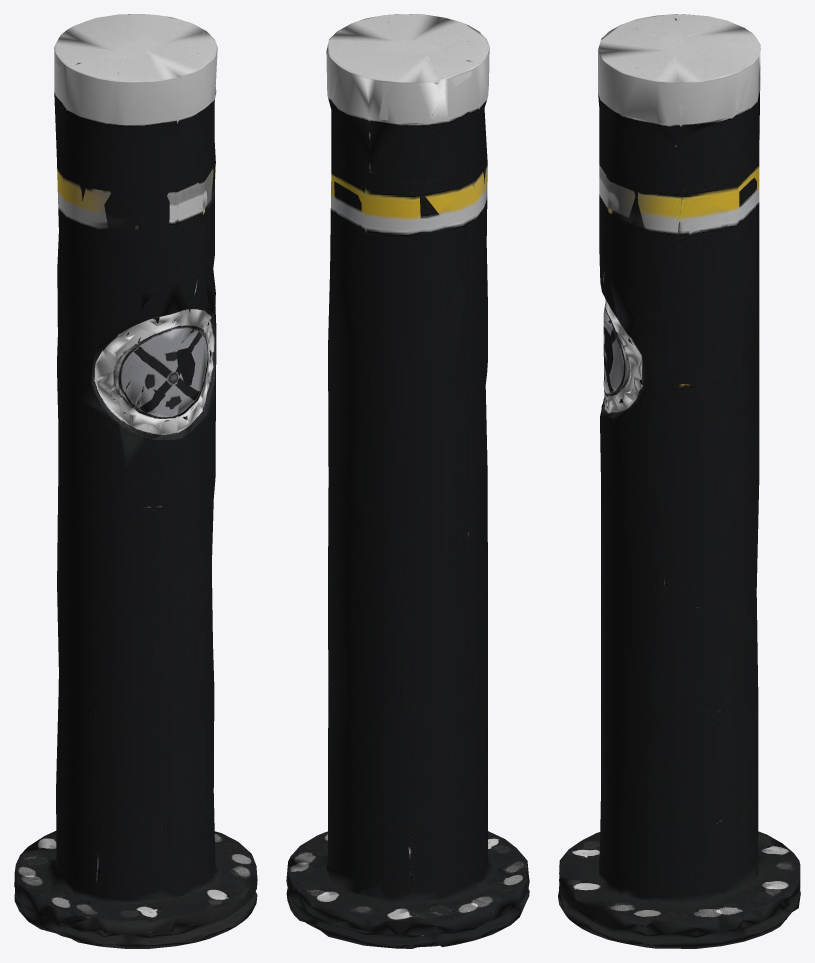
File: bollard_a.glb
The picture shows the model from 3 angles, left to right: view 1: azimuth 30°, elevation 25°; view 2: azimuth 150°, elevation 25°; view 3: azimuth 270°, elevation 25°; orthographic projection.
Size of the model in its own units: 0.4919 by 1.9 by 0.4914.
Materials: 1 (1 with a texture image).
